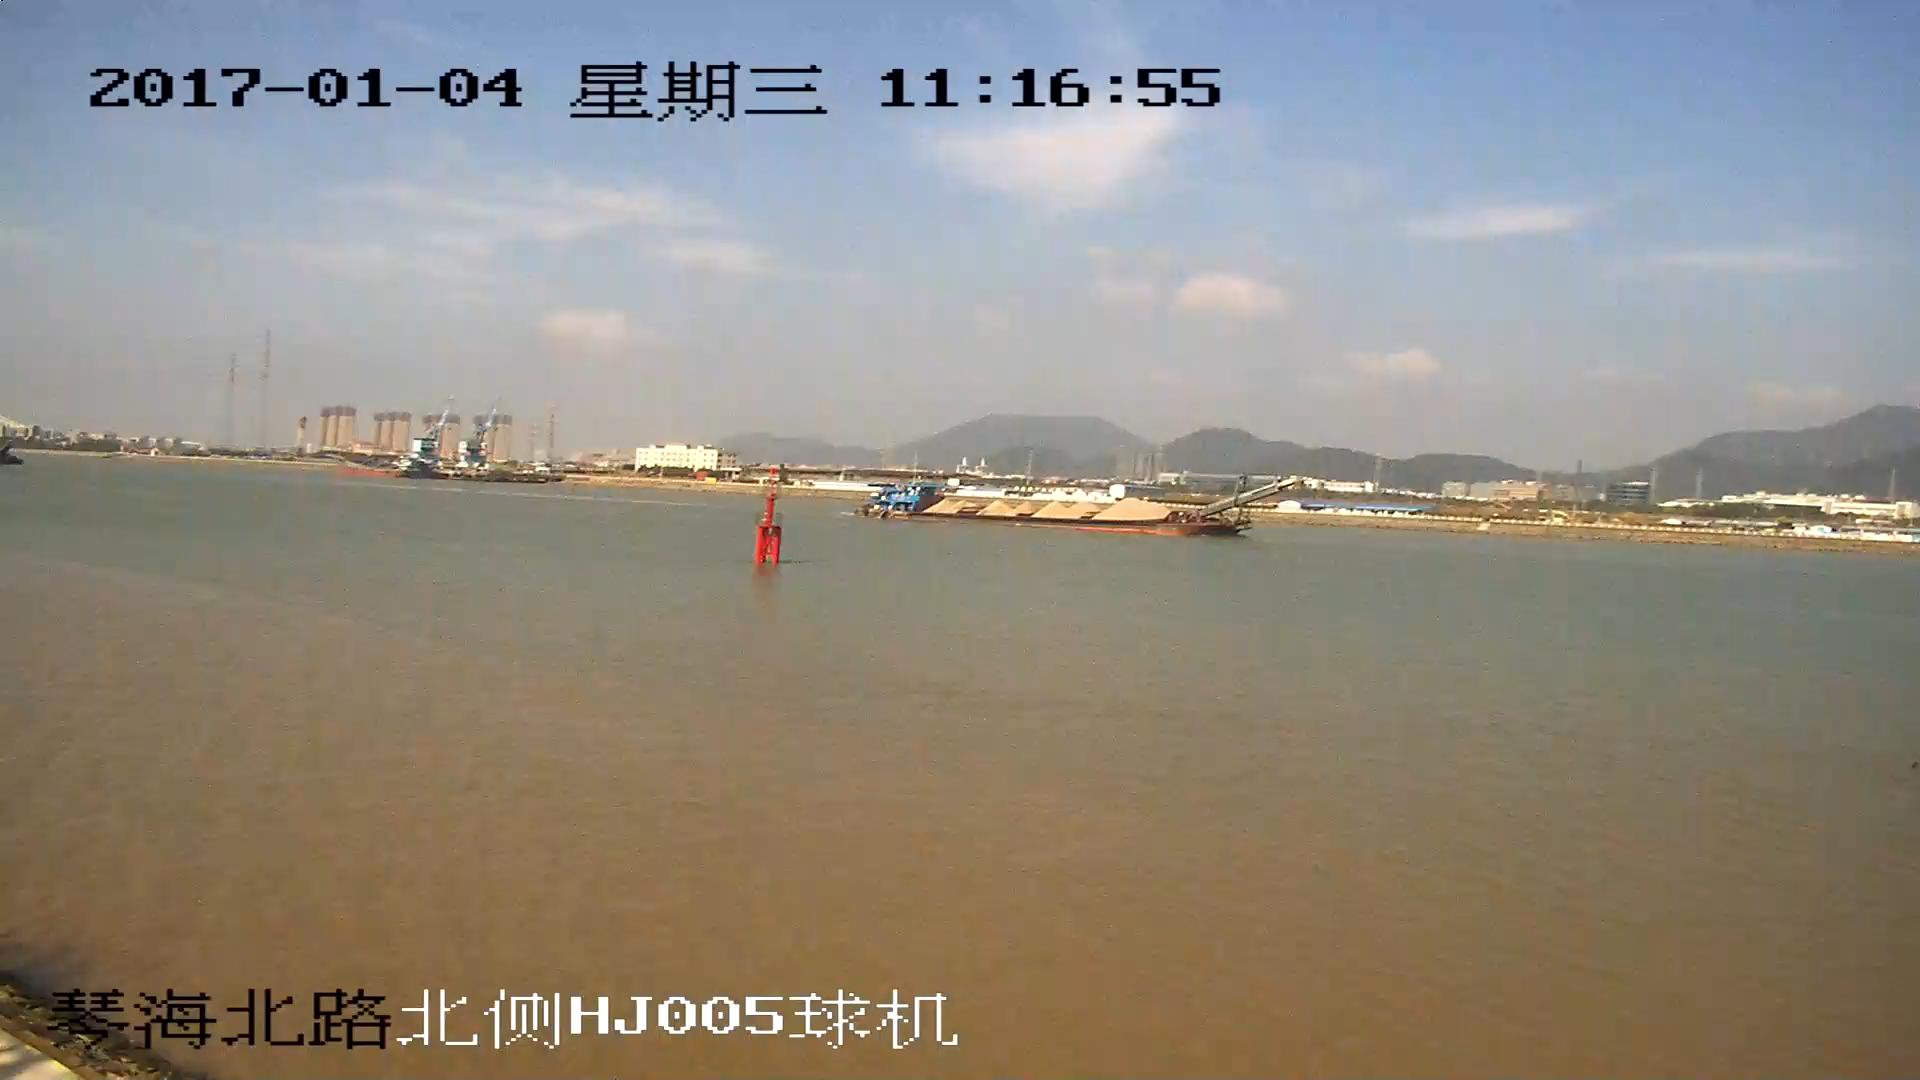ore carrier: (865, 481, 1288, 541)
